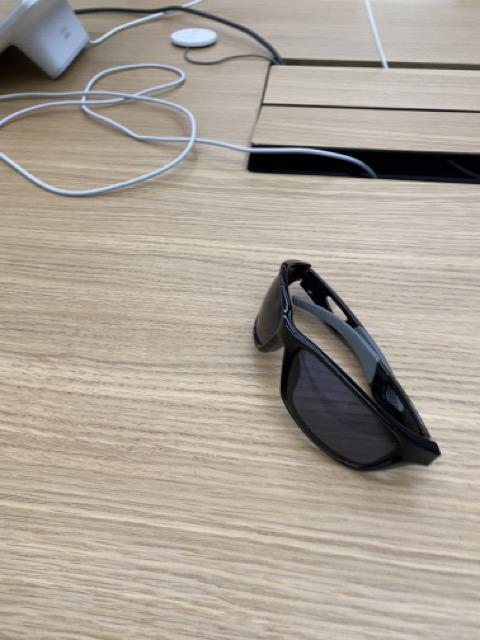Sunglasses: (254, 256, 442, 474)
